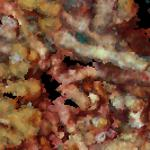dead: (28, 12, 128, 131)
